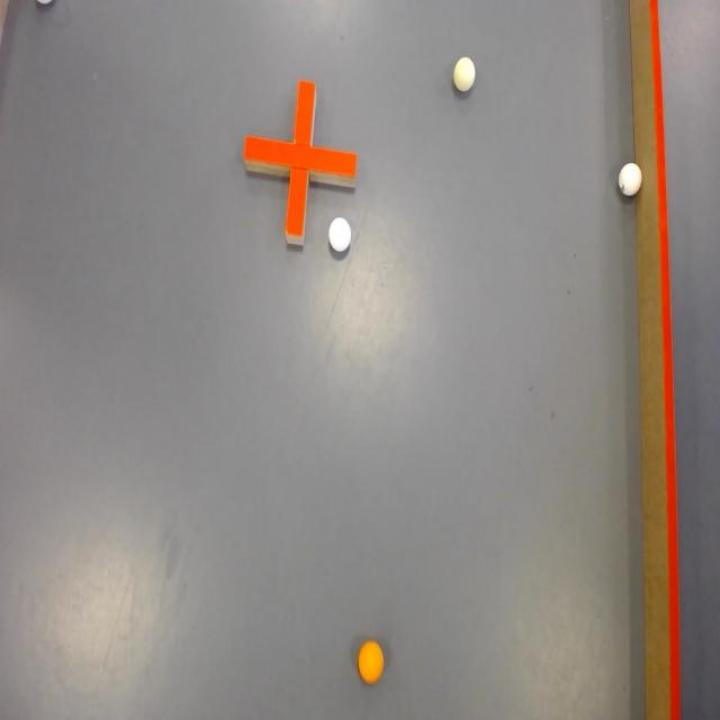orange: (357, 639, 387, 686)
white: (615, 155, 645, 203), (450, 54, 477, 97), (326, 215, 354, 253)
